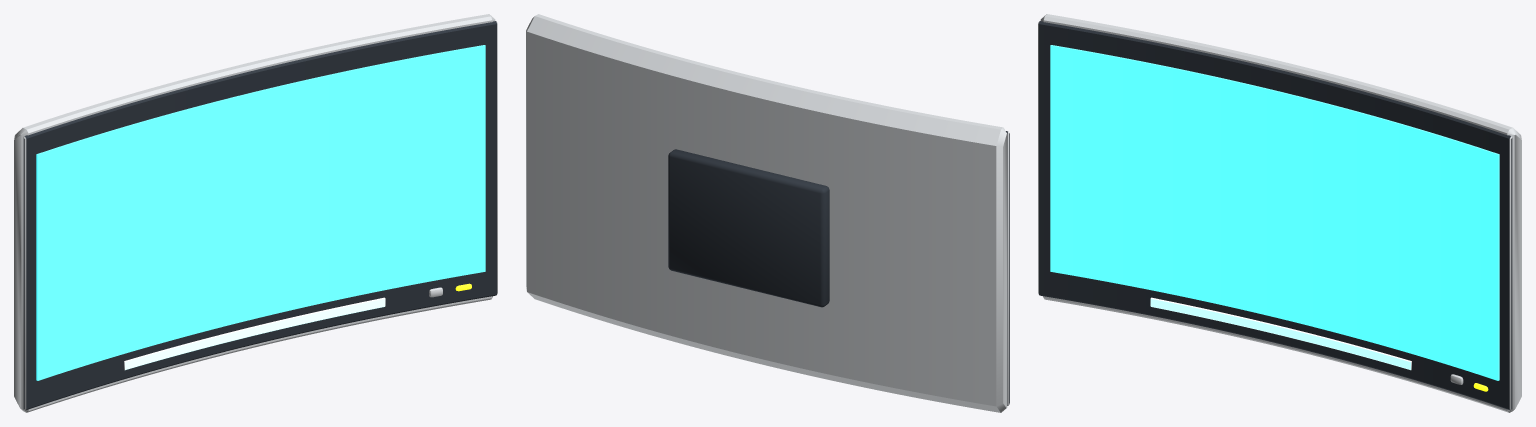
Rendered from WallScreen.fbx.
The picture shows the model from 3 angles, left to right: view 1: azimuth 30°, elevation 25°; view 2: azimuth 150°, elevation 25°; view 3: azimuth 330°, elevation 25°; orthographic projection.
Parts seen in each view (by area): view 1: Screen, Body; view 2: Body; view 3: Screen, Body.
Boxes of the visible parts, left/top/right/bottom form: Screen: left=36, top=45, right=485, bottom=380; Body: left=14, top=14, right=497, bottom=412; Body: left=526, top=14, right=1009, bottom=412; Screen: left=1050, top=45, right=1499, bottom=380; Body: left=1038, top=14, right=1521, bottom=412.
Bounding box in the file's own units: 1.09 × 0.62 × 0.1133.
